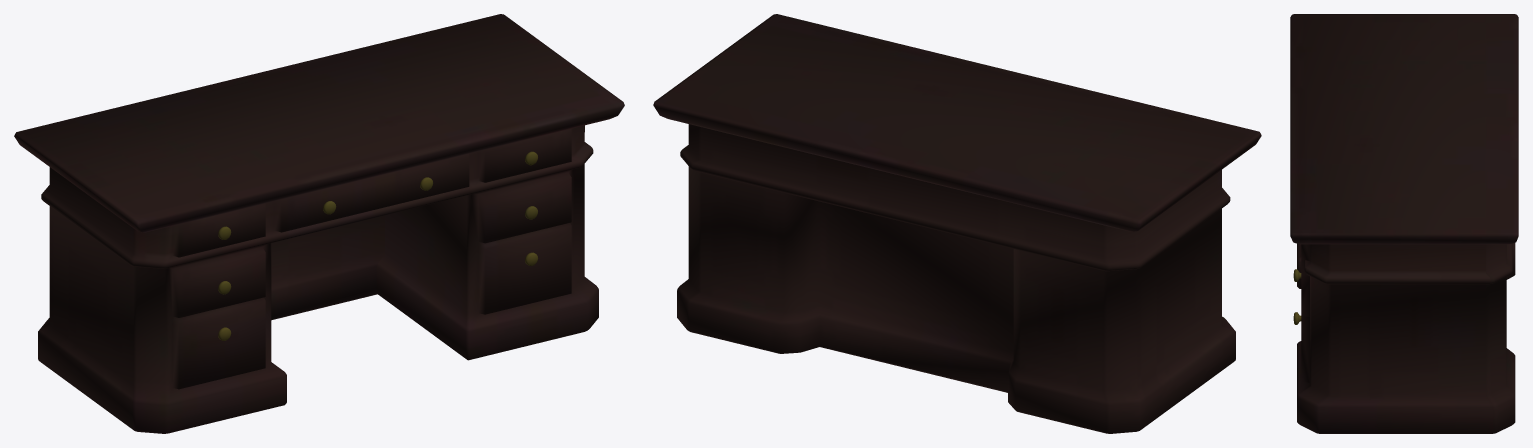
3 renders of one model, left to right at view 1: azimuth 30°, elevation 25°; view 2: azimuth 150°, elevation 25°; view 3: azimuth 270°, elevation 25°, orthographic. The views are drawn at different scales.
Size of the model in its own units: 19.9 by 8.68 by 8.72.
1 material, 1 textured.
